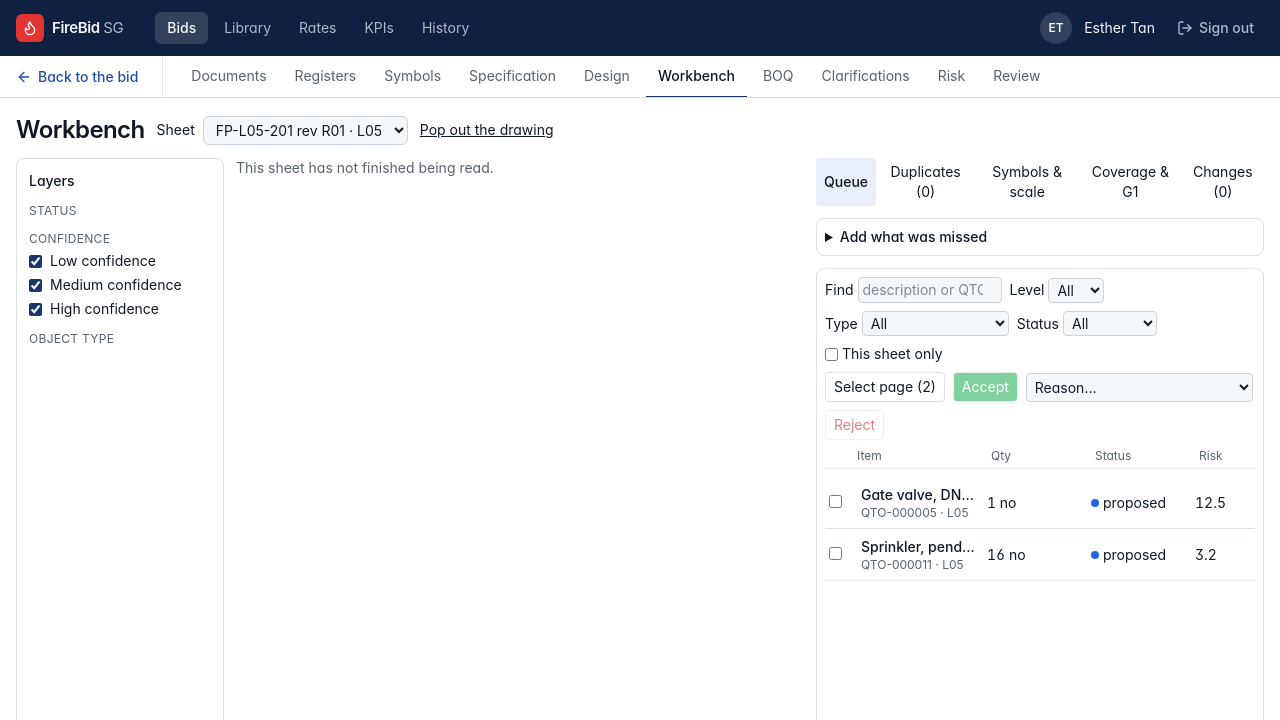
the workbench › picks the type from the library, by how it is taken off
Click the heading "Add what was missed" at [913, 236], box [840, 228, 987, 245]
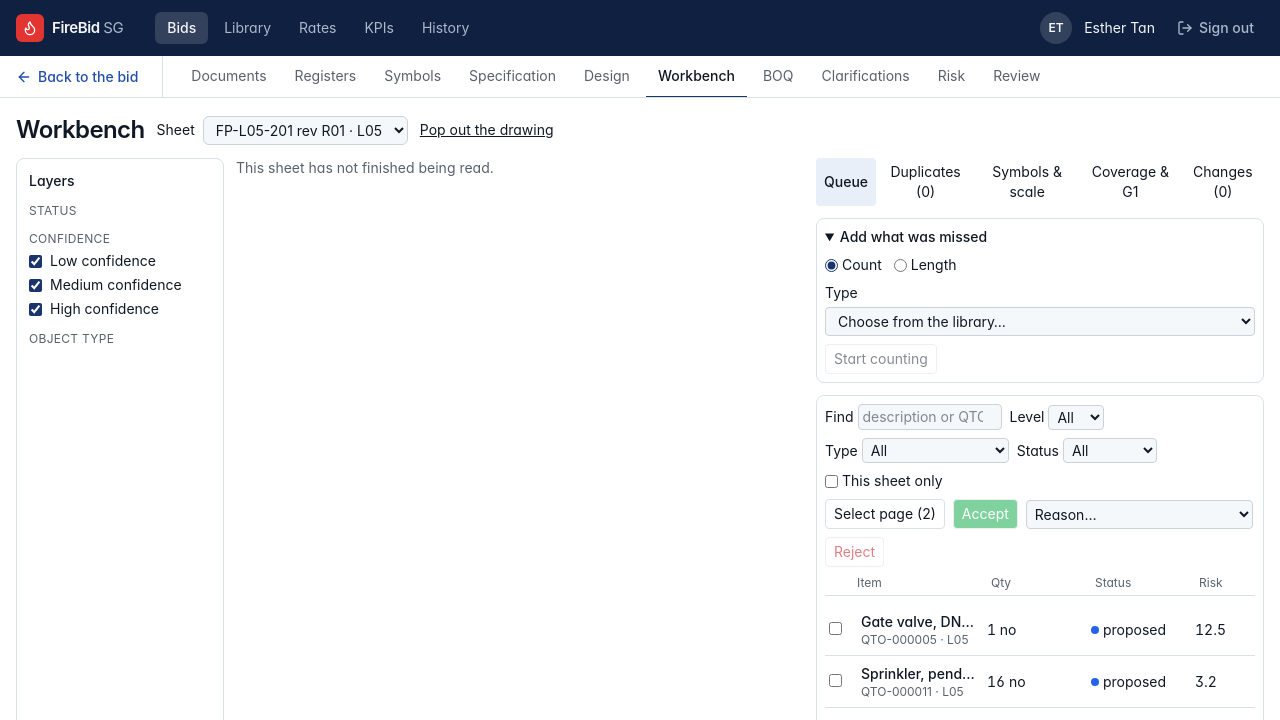
Click the radio button labelled "Length" at [900, 265], box [894, 258, 907, 272]
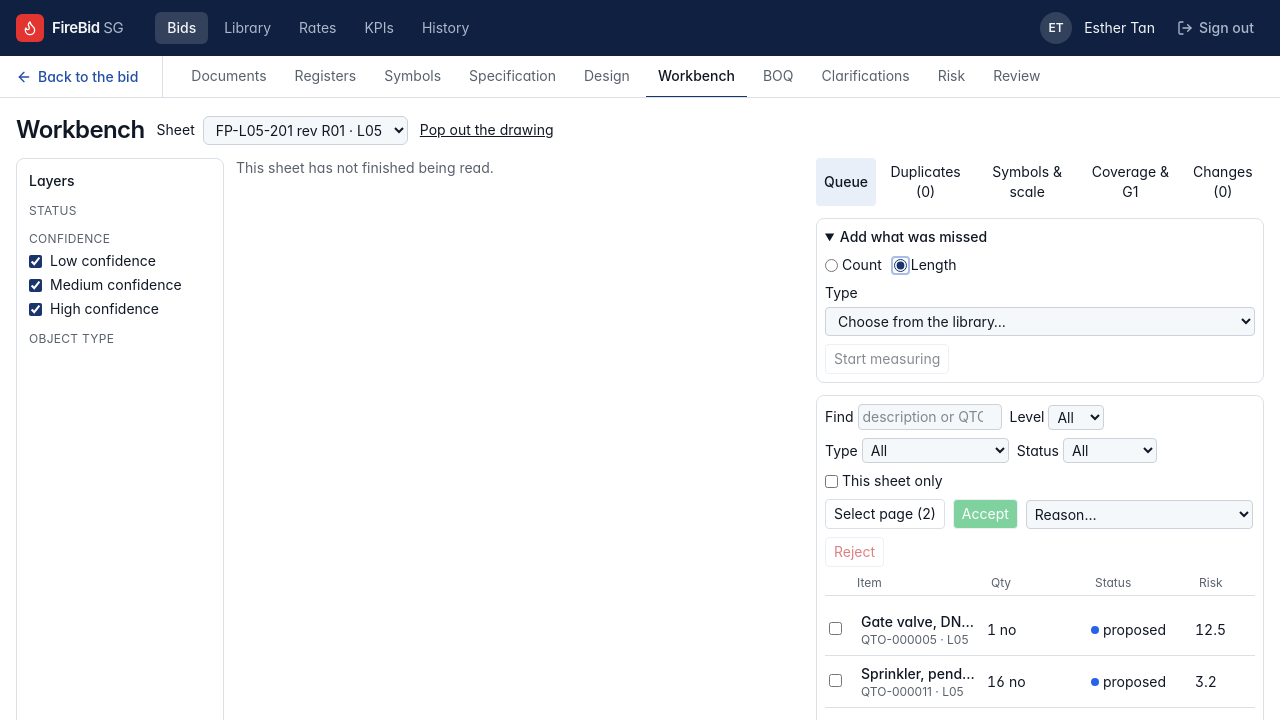
Select "Pipe" in the dropdown labelled "Type" below "Count" at [1040, 322], box [825, 307, 1255, 336]
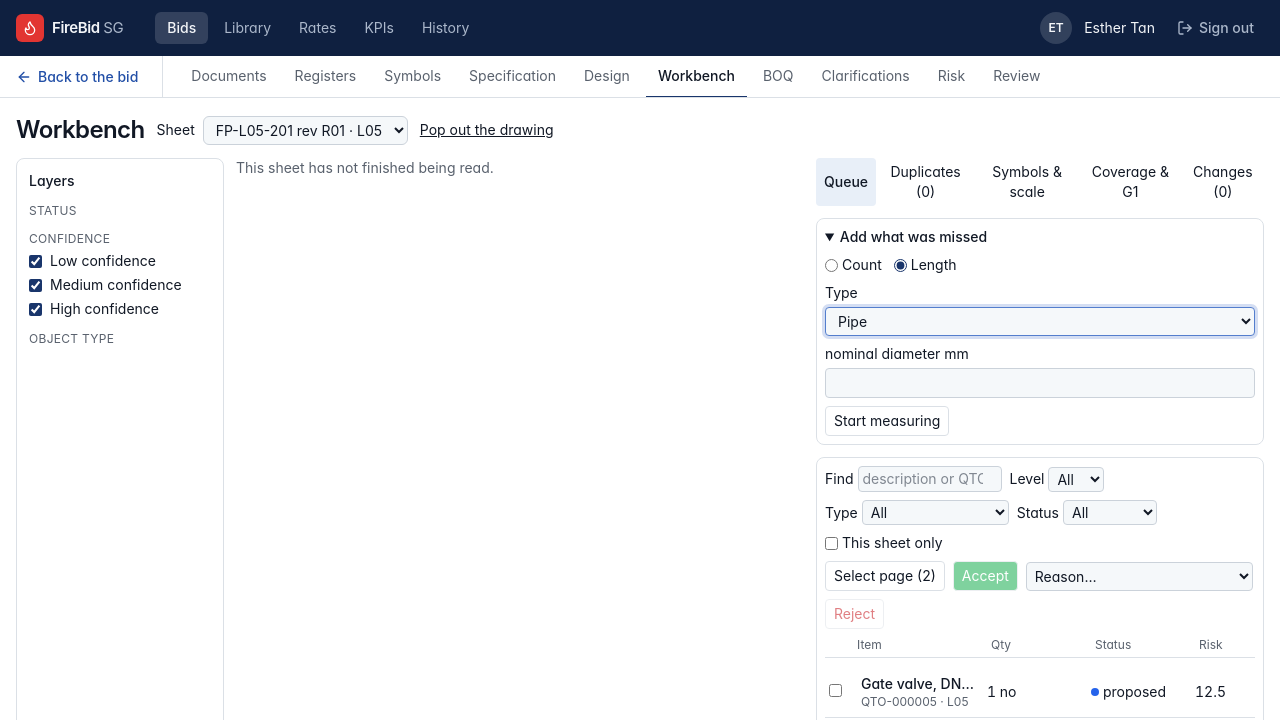
Expected: the field labelled "nominal diameter mm" is shown, [825, 368, 1255, 398]
Click the button "Start measuring" at [887, 421], box [825, 406, 949, 436]
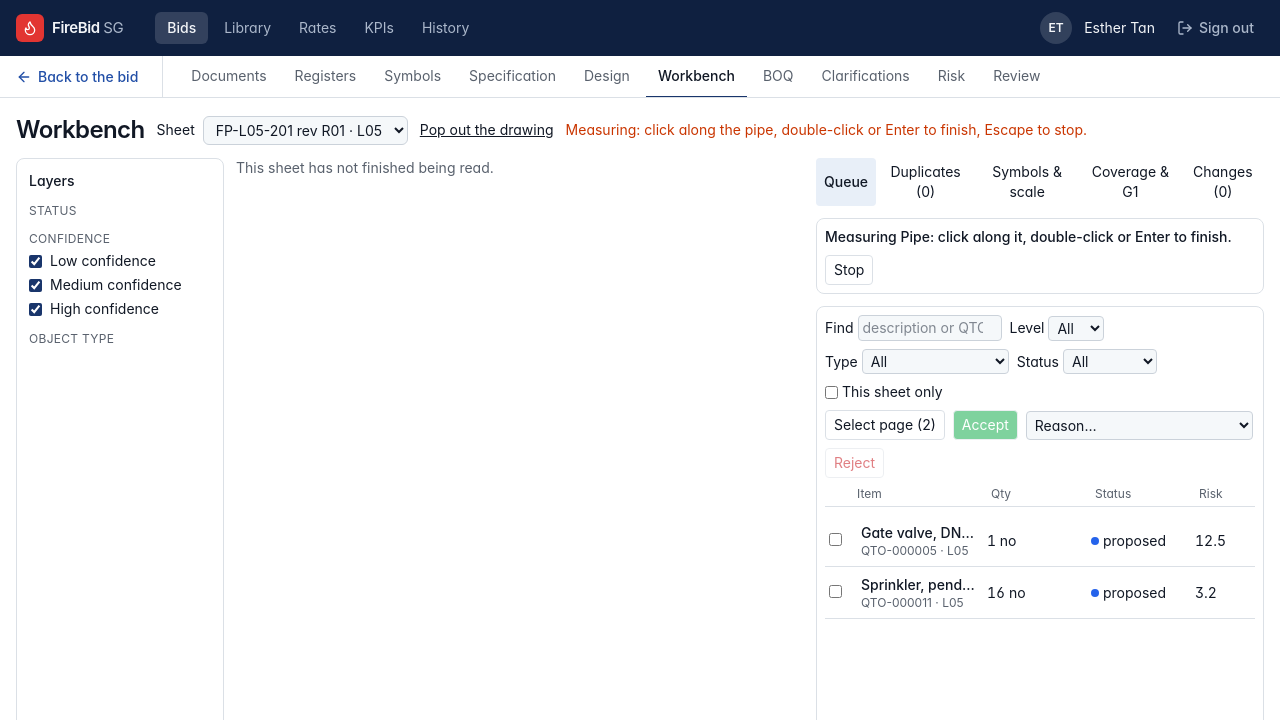
Expected: the text "Measuring Pipe" is shown, [825, 228, 1232, 245]
